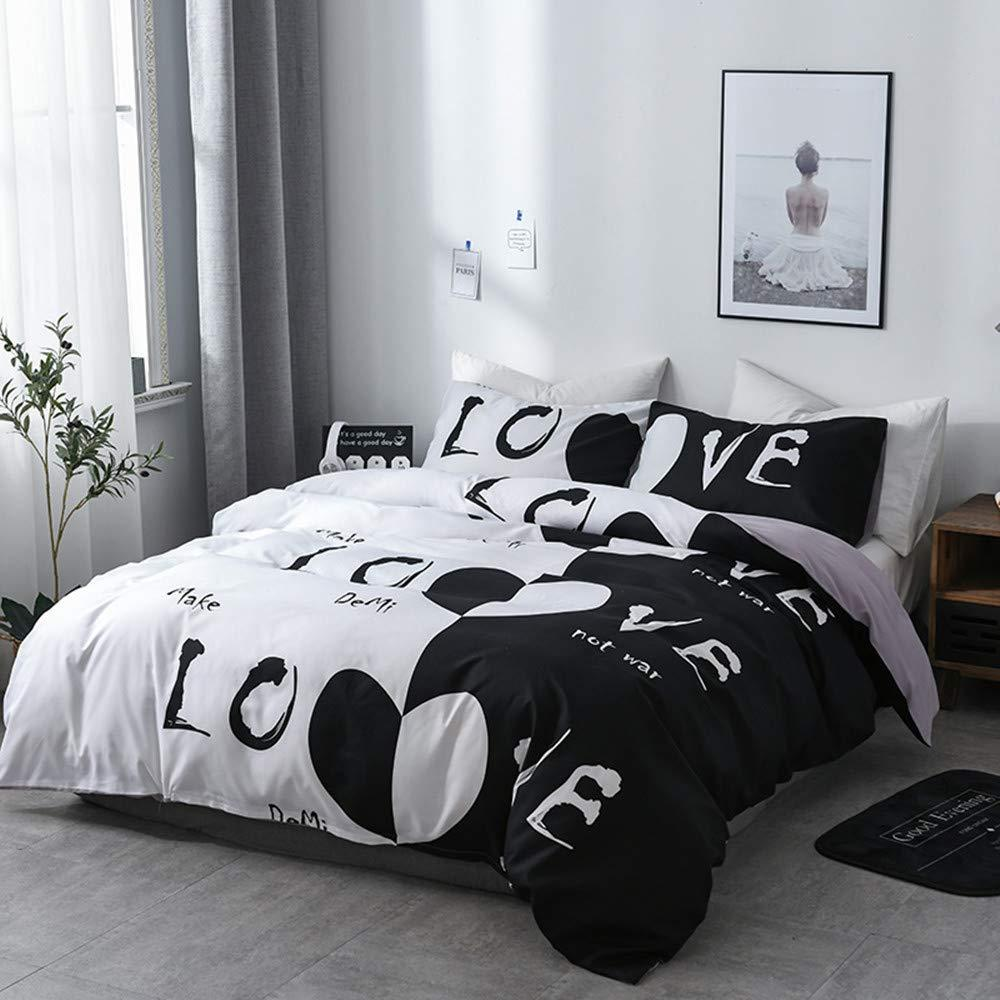bed: (198, 223, 855, 850)
